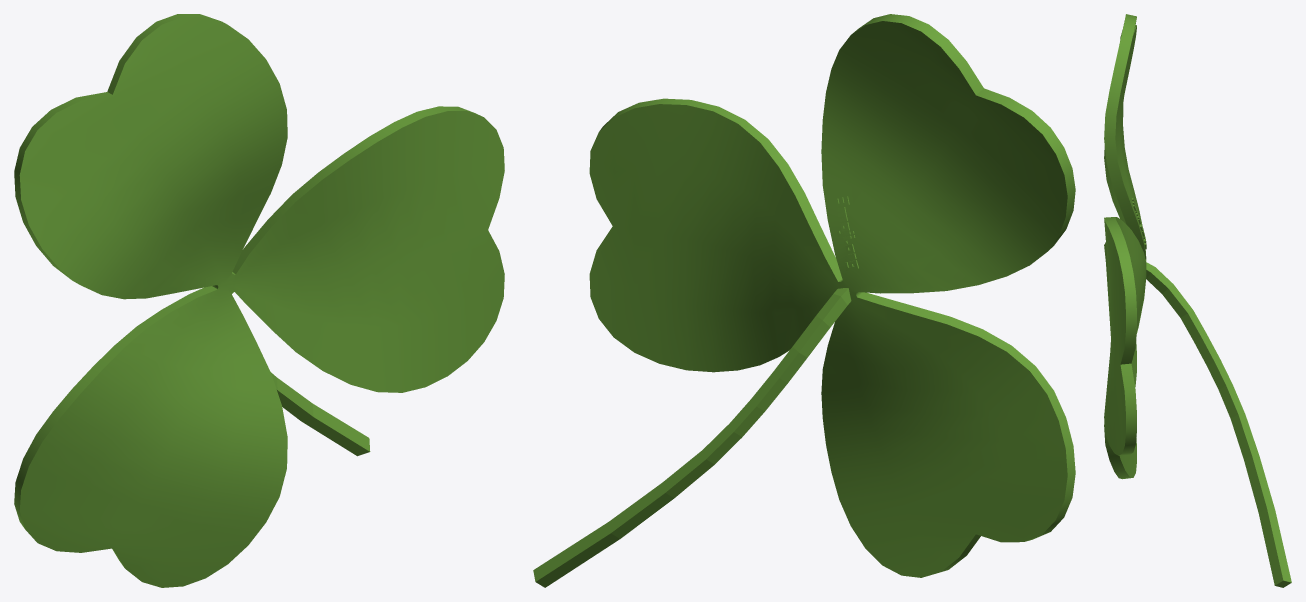
File: shamrock.fbx
The picture shows the model from 3 angles, left to right: view 1: azimuth 30°, elevation 25°; view 2: azimuth 150°, elevation 25°; view 3: azimuth 270°, elevation 25°; orthographic projection. The views are drawn at different scales.
Parts seen in each view (by area): view 1: Cube.177; view 2: Cube.177; view 3: Cube.177.
Part boxes in pixels (x1,y1,x2,y2): Cube.177: [14, 14, 504, 587]; Cube.177: [533, 14, 1075, 587]; Cube.177: [1104, 14, 1291, 587].
Size of the model in its own units: 199 by 226 by 83.18.
1 material, 1 textured.
